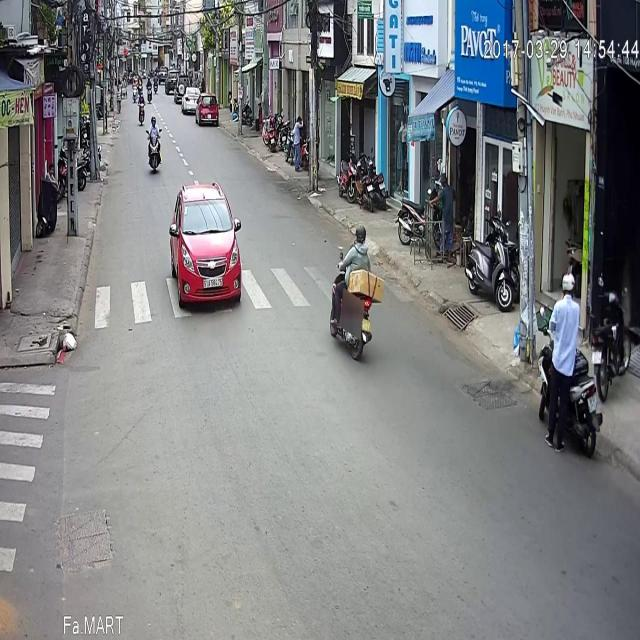car: (169, 123, 239, 256), (195, 34, 219, 69)
motorcycle: (537, 210, 605, 398), (329, 165, 383, 303), (146, 57, 162, 115), (137, 31, 145, 68)
